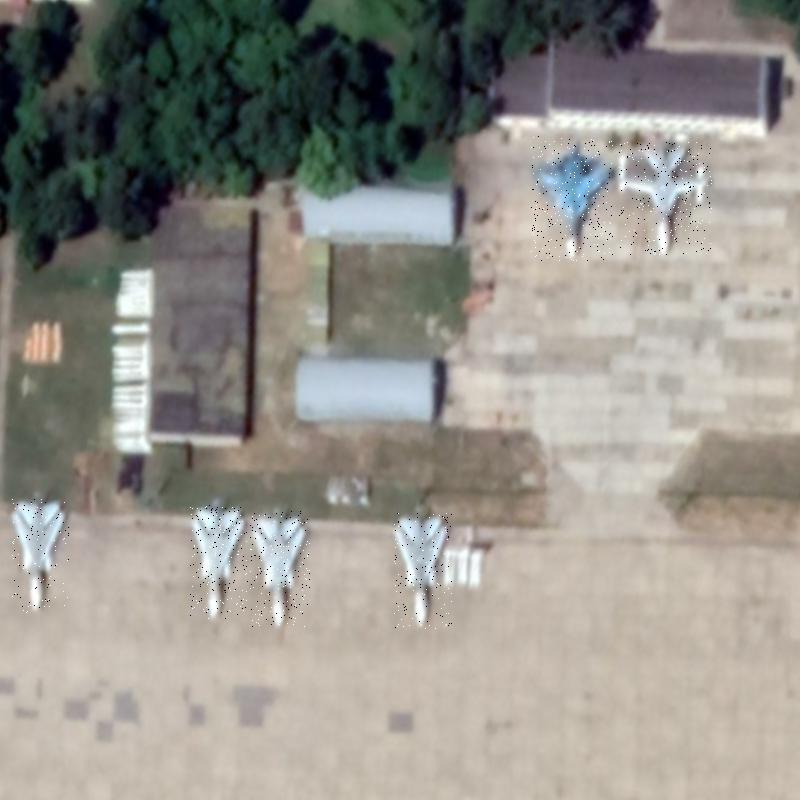A19: (531, 136, 613, 261)
A20: (619, 142, 712, 255), (250, 511, 310, 627), (394, 513, 452, 629), (11, 497, 69, 613), (190, 504, 248, 619)
